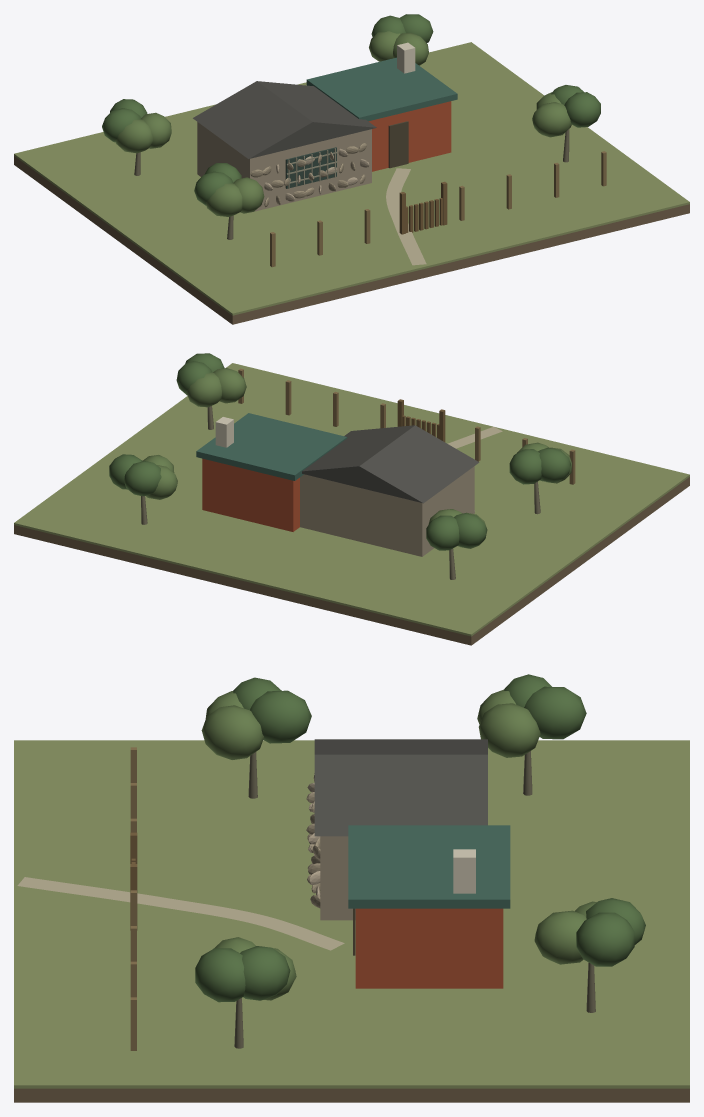
Rendered from gms-05.glb.
The picture shows the model from 3 angles, top to bottom: view 1: azimuth 30°, elevation 25°; view 2: azimuth 150°, elevation 25°; view 3: azimuth 270°, elevation 25°; orthographic projection. The views are drawn at different scales.
Parts seen in each view (by area): view 1: GMS-05 - estudio del paisaje; view 2: GMS-05 - estudio del paisaje; view 3: GMS-05 - estudio del paisaje.
Boxes of the visible parts, left/top/right/bottom form: GMS-05 - estudio del paisaje: left=14, top=14, right=689, bottom=324; GMS-05 - estudio del paisaje: left=14, top=353, right=689, bottom=645; GMS-05 - estudio del paisaje: left=14, top=674, right=689, bottom=1102.
Size of the model in its own units: 11.6 by 2.27 by 9.6.
